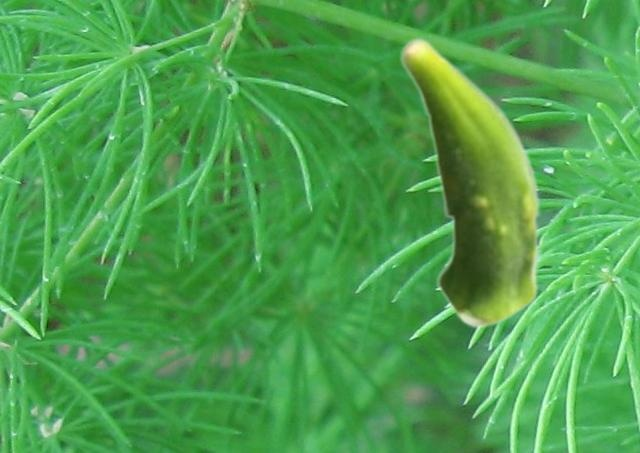okra: (398, 36, 542, 328)
